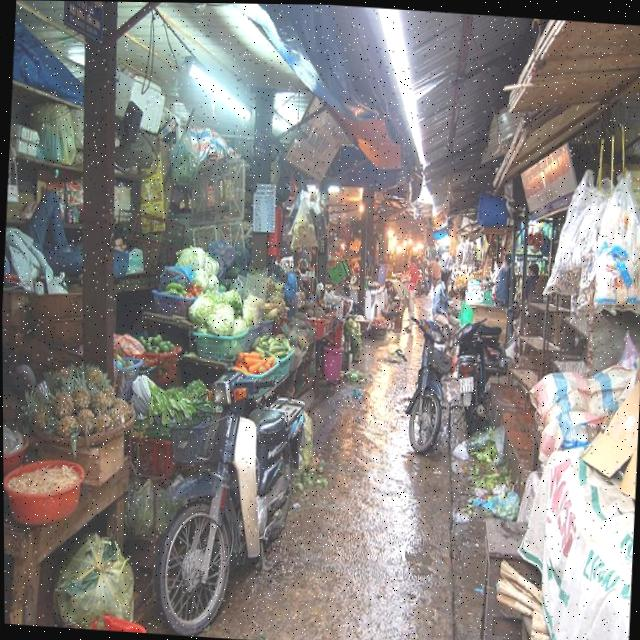motorcycle: (149, 361, 324, 640), (400, 306, 459, 463), (444, 312, 495, 442)
